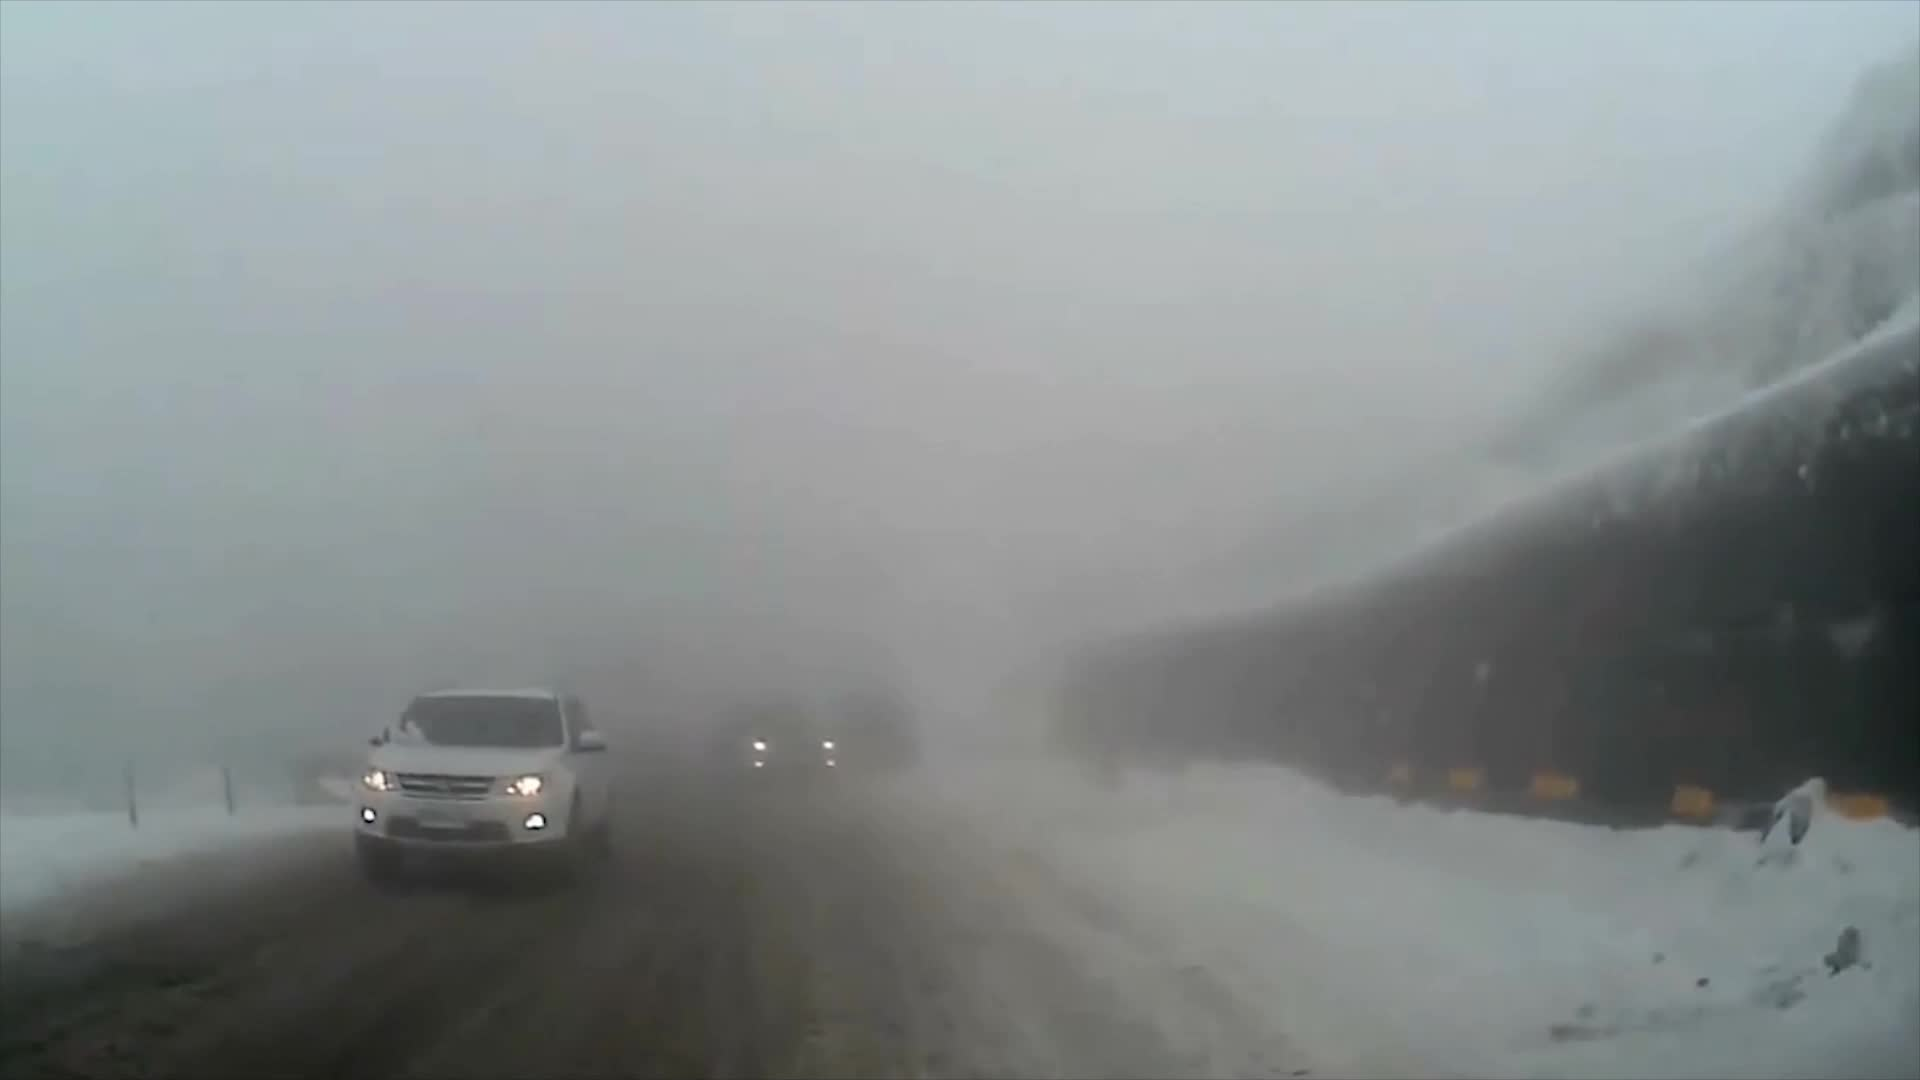vehicle: (349, 682, 618, 895), (707, 695, 839, 793)
